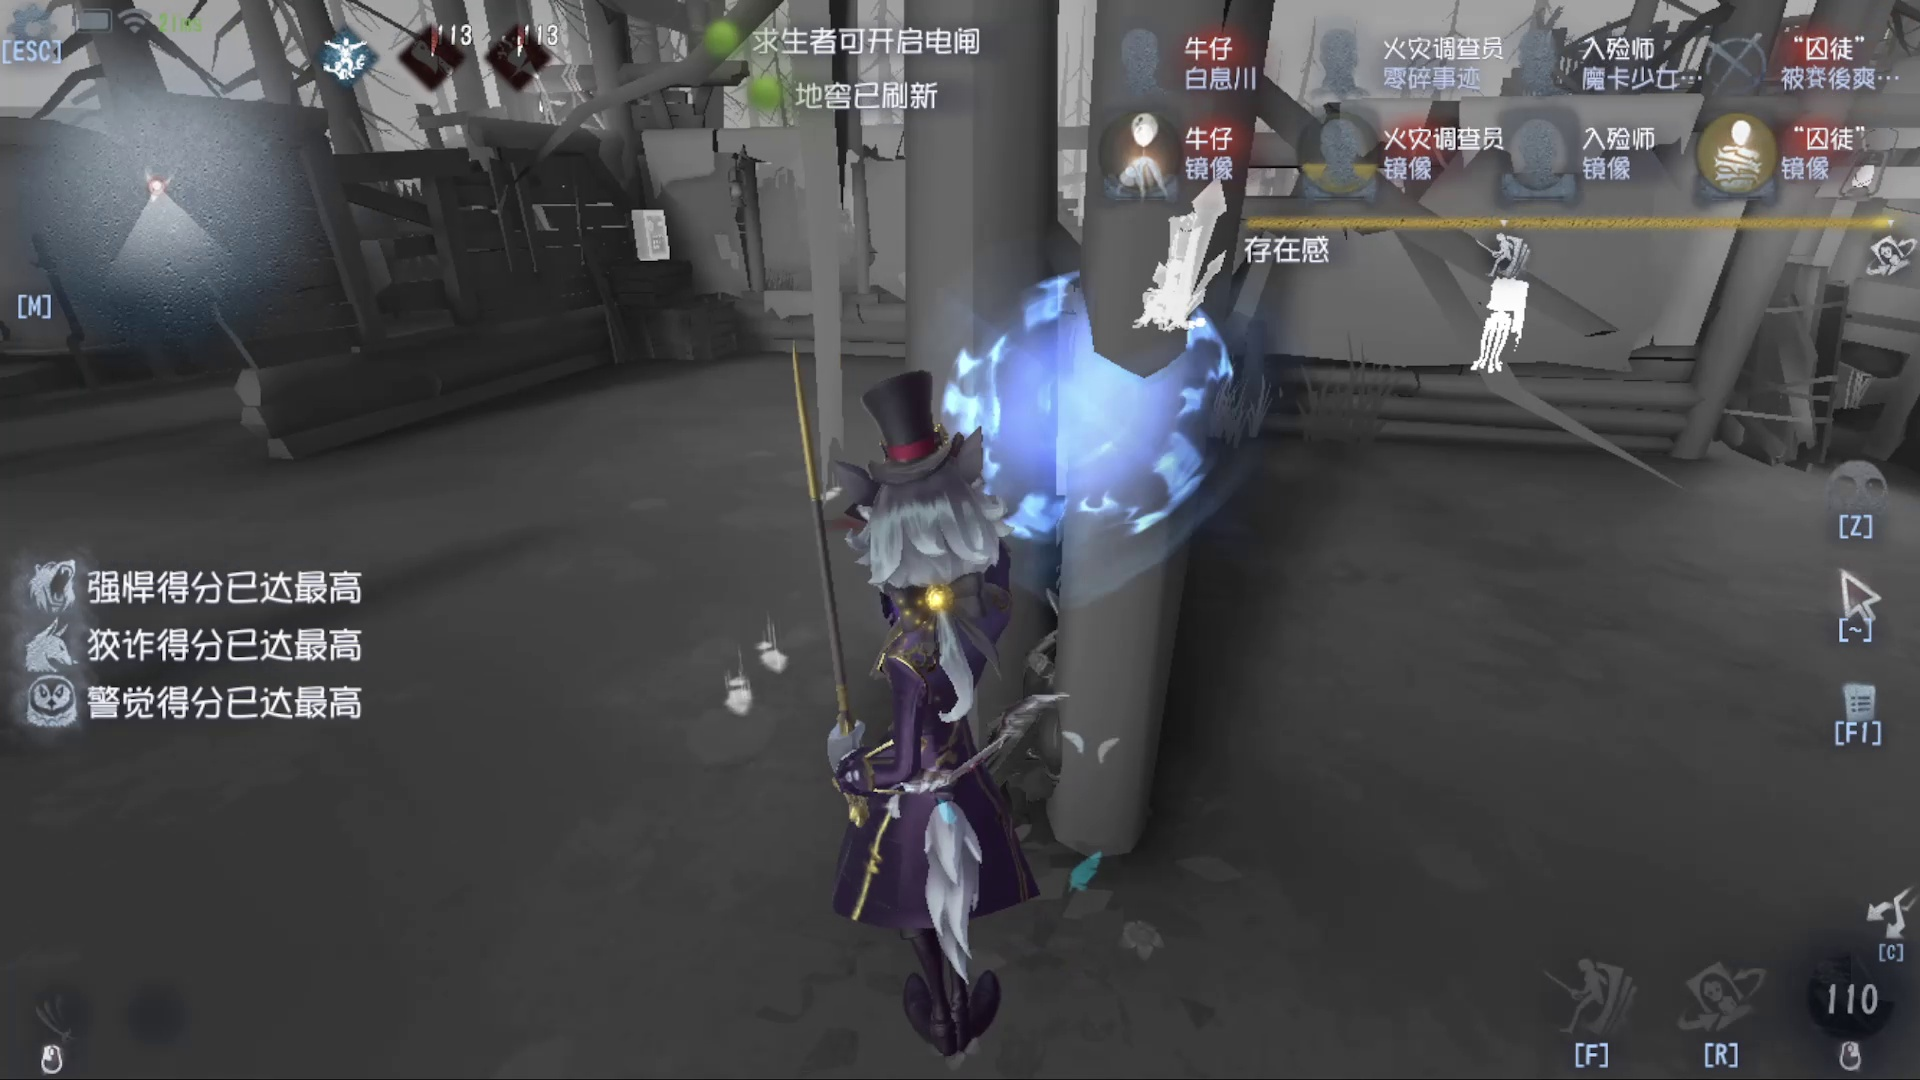狂欢之椅: (1138, 171, 1265, 359)
